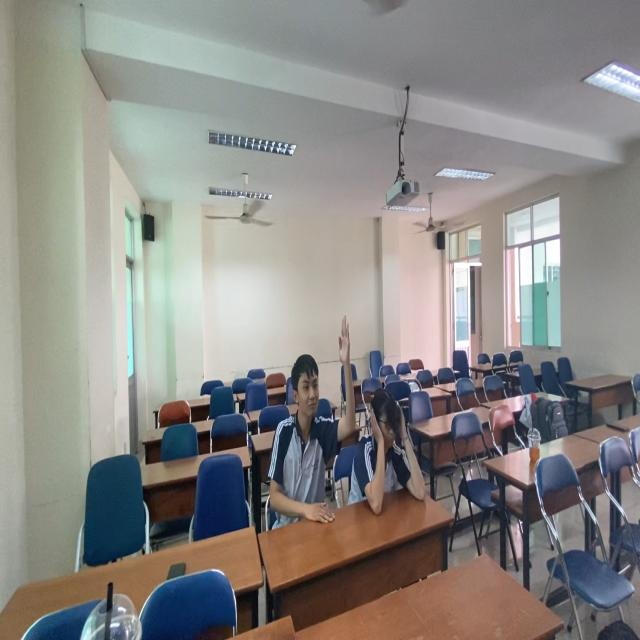raise_hand: (271, 315, 361, 524)
